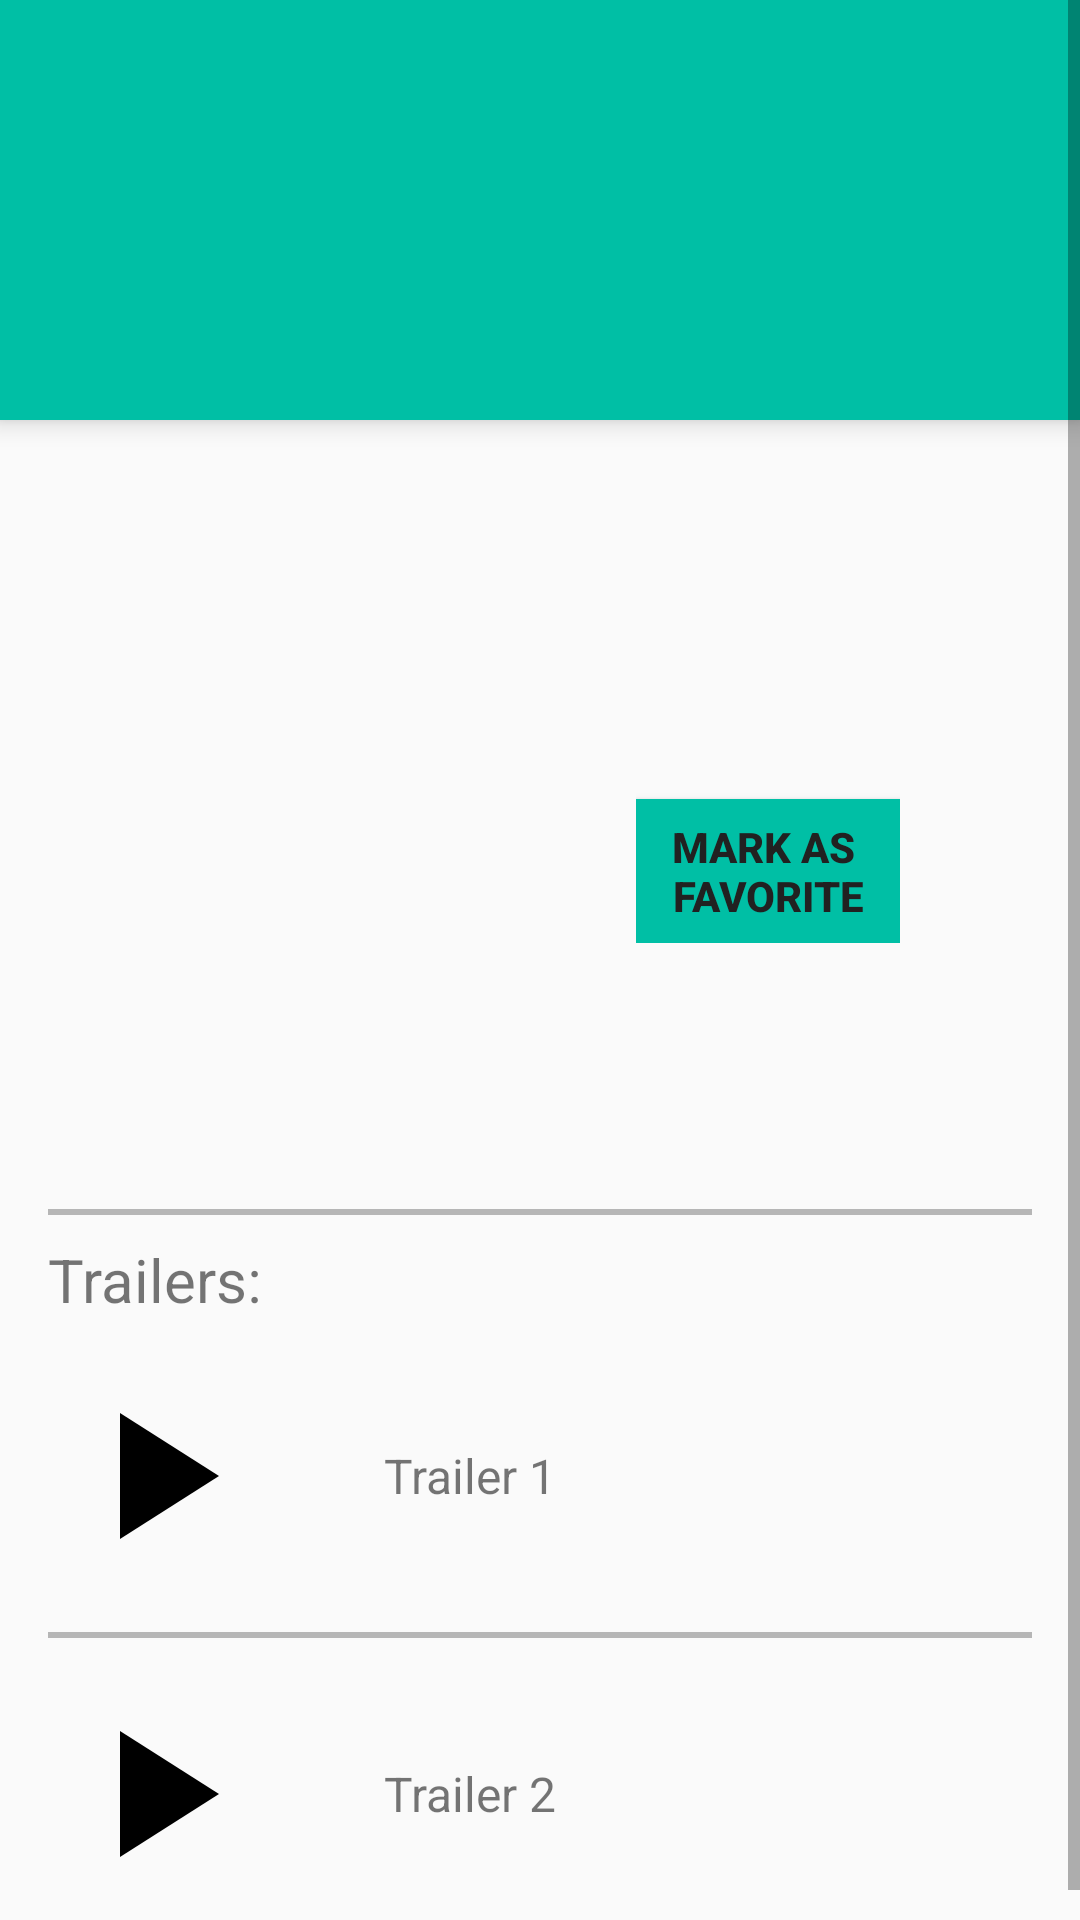

Screen size 1080x1920. Icon name, then its center in pixels as [x,y]:
play arrow: [169,1476], [169,1794]
